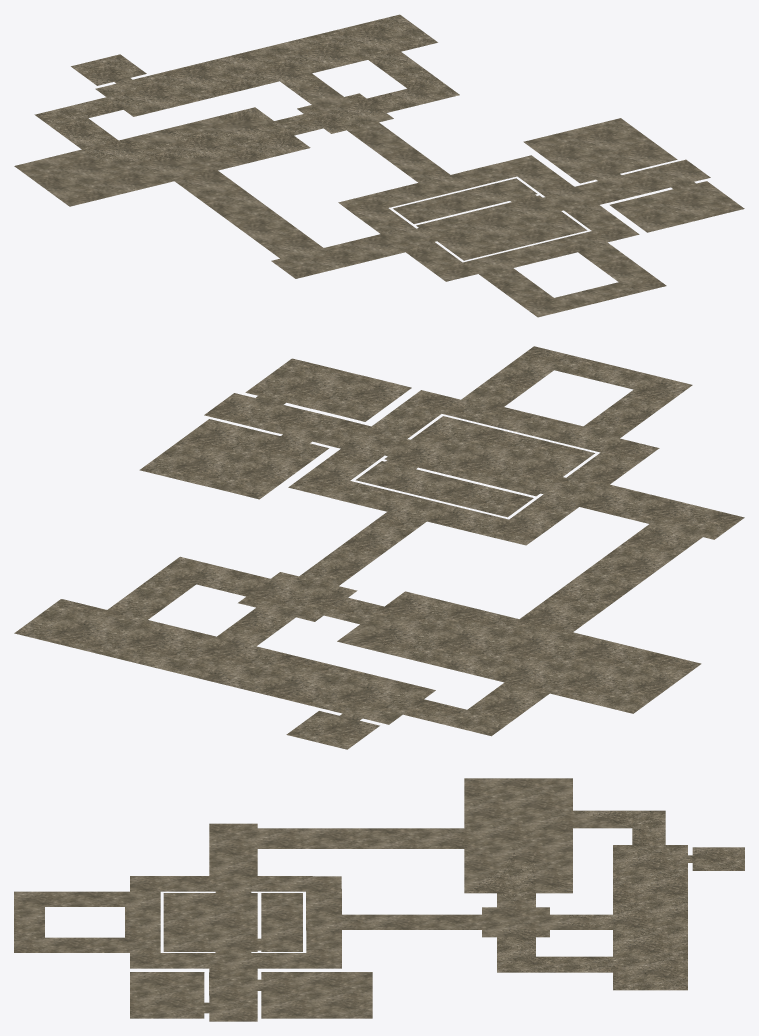
File: floor.glb
3 renders of one model, top to bottom at view 1: azimuth 30°, elevation 25°; view 2: azimuth 150°, elevation 25°; view 3: azimuth 270°, elevation 25°, orthographic. The views are drawn at different scales.
Parts seen in each view (by area): view 1: FloorBaked; view 2: FloorBaked; view 3: FloorBaked.
Part boxes in pixels (x1,y1,x2,y2): FloorBaked: (14,14,744,317); FloorBaked: (14,346,744,749); FloorBaked: (14,778,744,1021).
Bounding box in the file's own units: 45.65 × 0.0137 × 57.92.
1 material, 1 textured.
